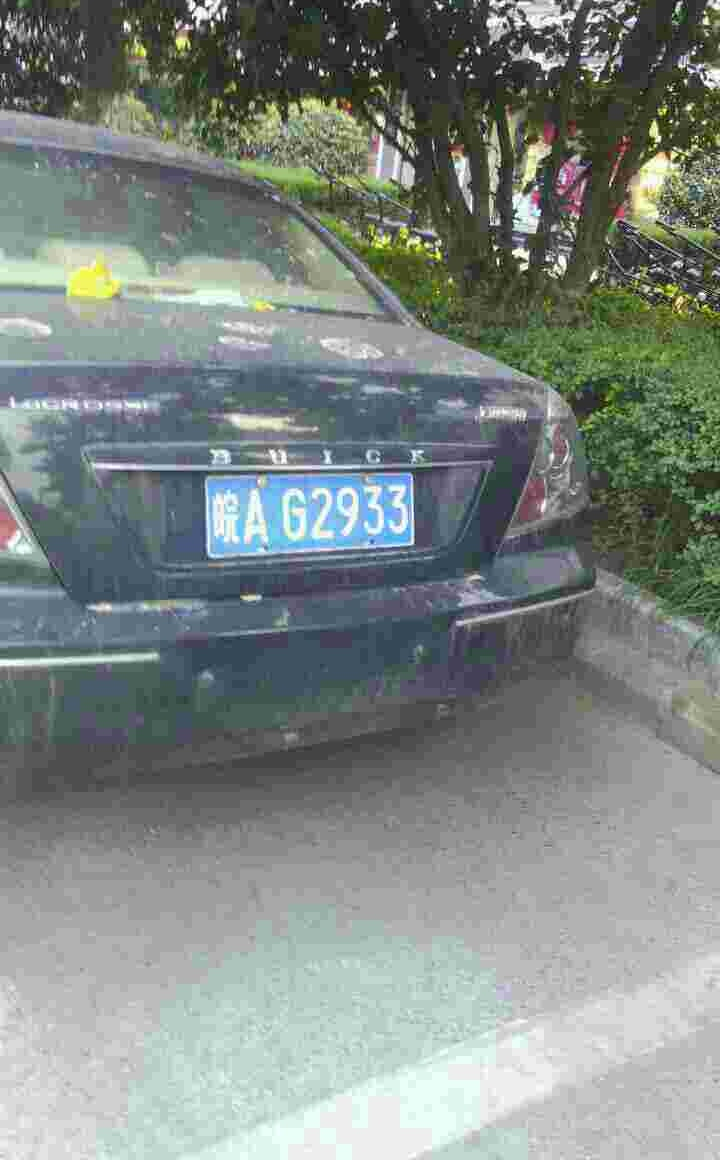car: (191, 475, 428, 550)
